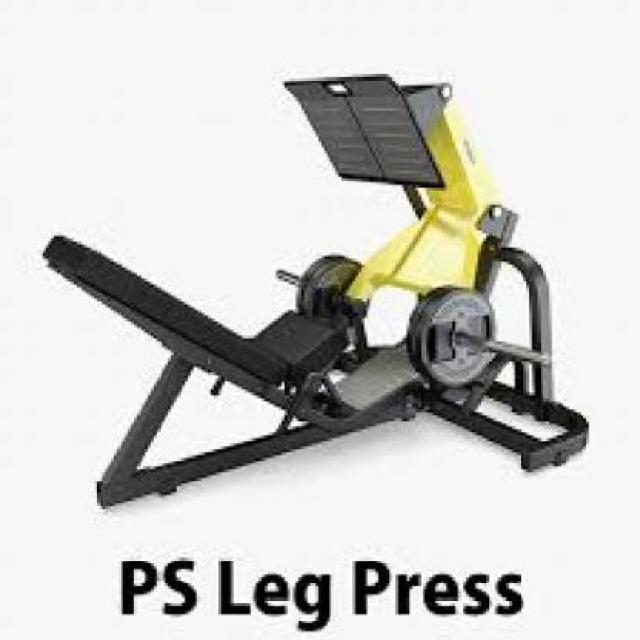leg press: (23, 48, 597, 523)
